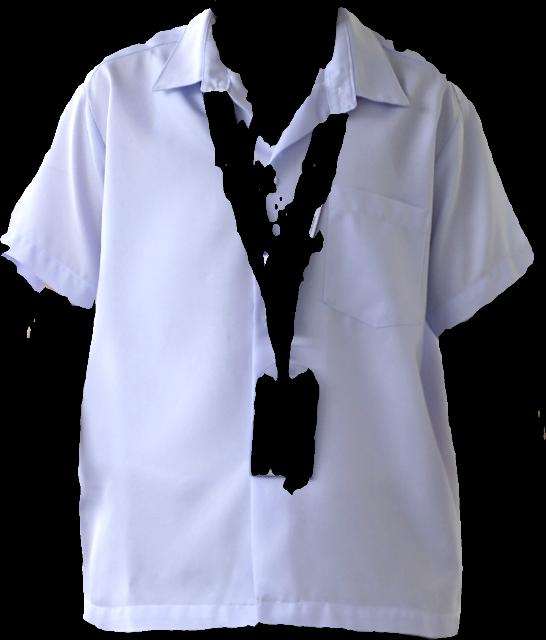poloboy: (1, 8, 534, 639)
